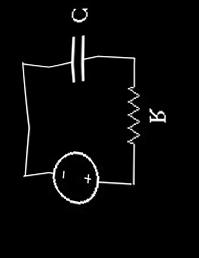Battery: (43, 140, 103, 209)
